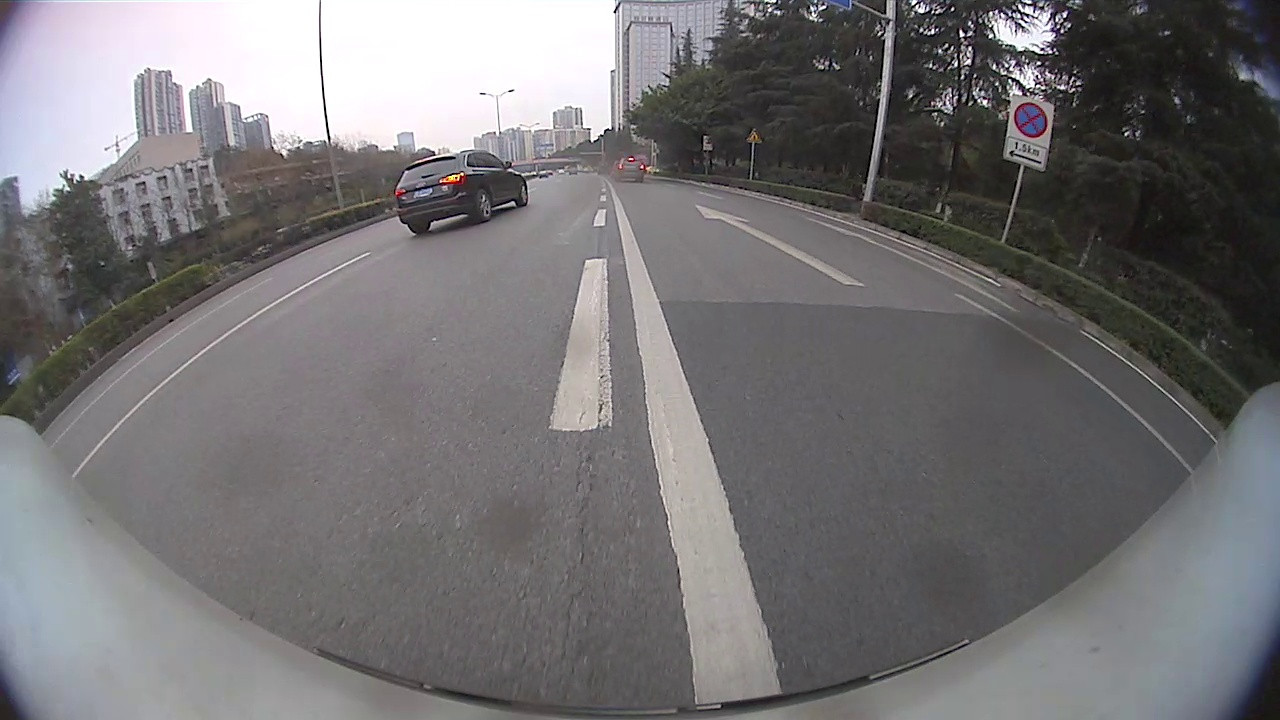car: (394, 148, 529, 234), (614, 155, 647, 184)
front: (521, 184, 530, 207)
rear: (475, 190, 495, 223)
